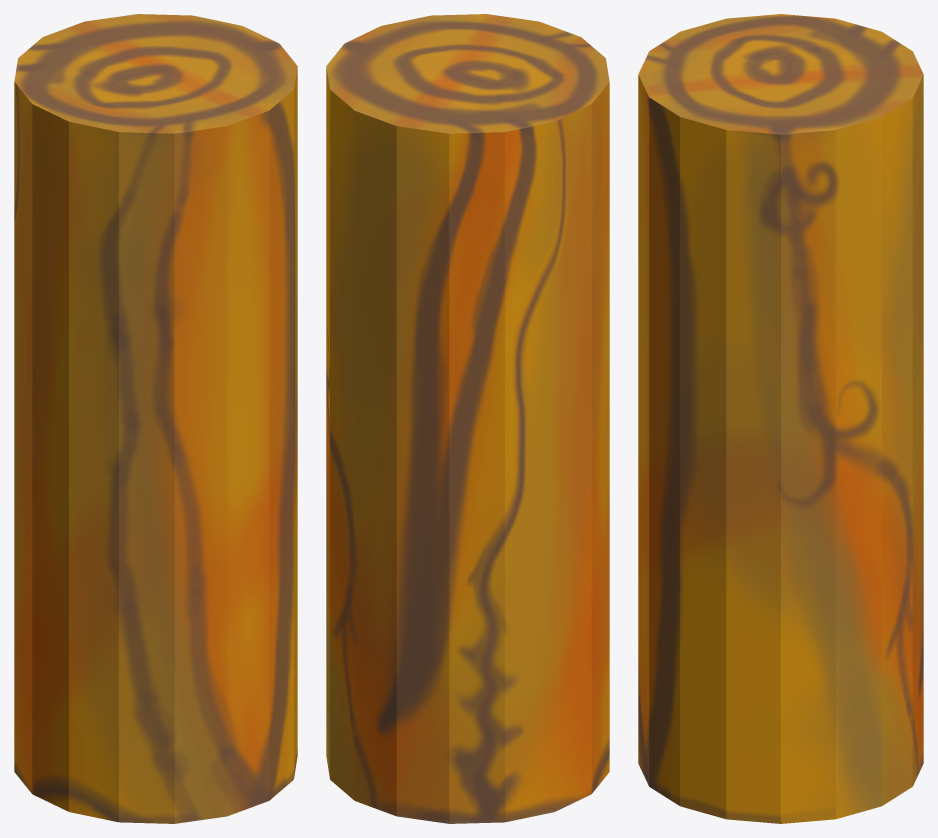
The model's file is Soporte 1.fbx.
The picture shows the model from 3 angles, left to right: view 1: azimuth 30°, elevation 25°; view 2: azimuth 150°, elevation 25°; view 3: azimuth 270°, elevation 25°; orthographic projection.
Visible parts, largest first — view 1: Soporte; view 2: Soporte; view 3: Soporte.
Part boxes in pixels (x1,y1,x2,y2): Soporte: (14,14,297,823); Soporte: (326,14,609,823); Soporte: (638,14,923,823).
Size of the model in its own units: 0.75 by 2 by 0.75.
Materials: 1 (1 with a texture image).
